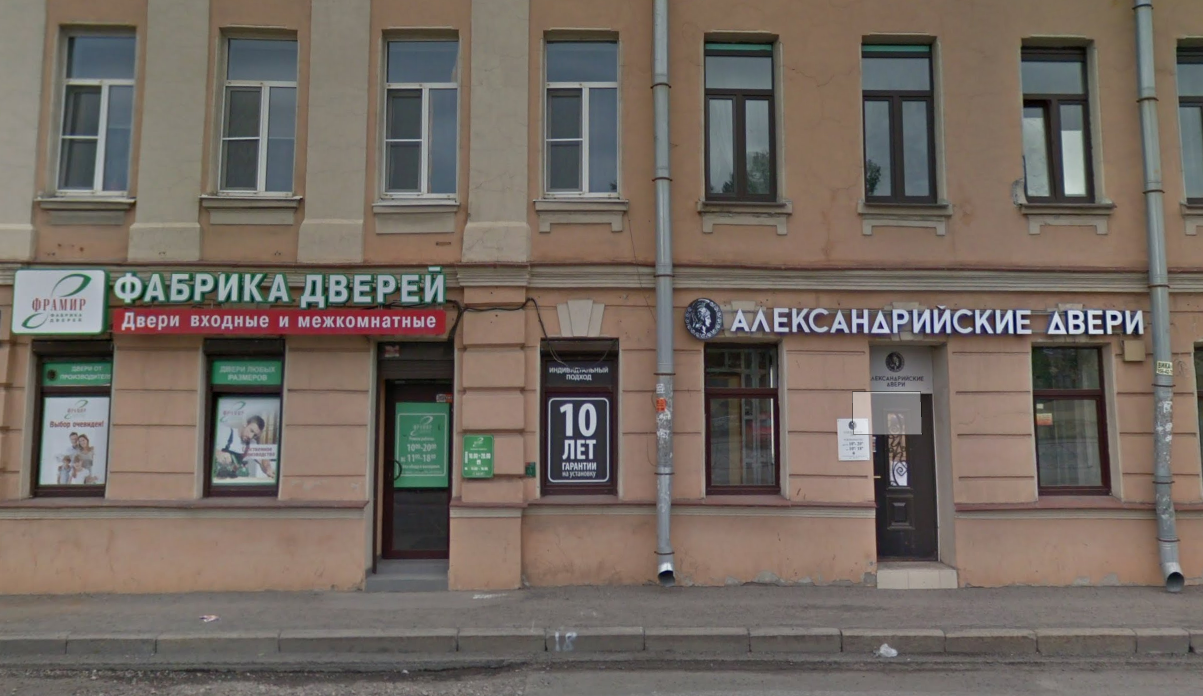door: (376, 373, 448, 558), (873, 395, 933, 557)
signboard: (8, 259, 455, 340), (684, 287, 1148, 339)
window: (701, 32, 783, 211), (540, 35, 621, 205), (862, 32, 939, 210), (219, 27, 296, 201), (1021, 43, 1099, 203), (59, 26, 131, 197), (387, 33, 458, 201), (1034, 344, 1112, 496), (541, 340, 616, 494), (704, 342, 776, 496), (34, 350, 109, 491), (209, 346, 279, 497)
